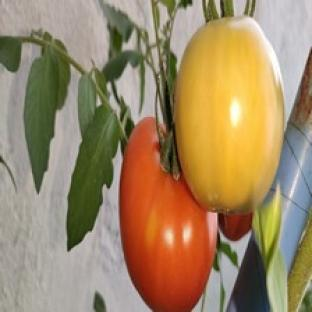Tomato: (175, 17, 284, 213), (120, 117, 217, 311), (219, 214, 252, 240)
